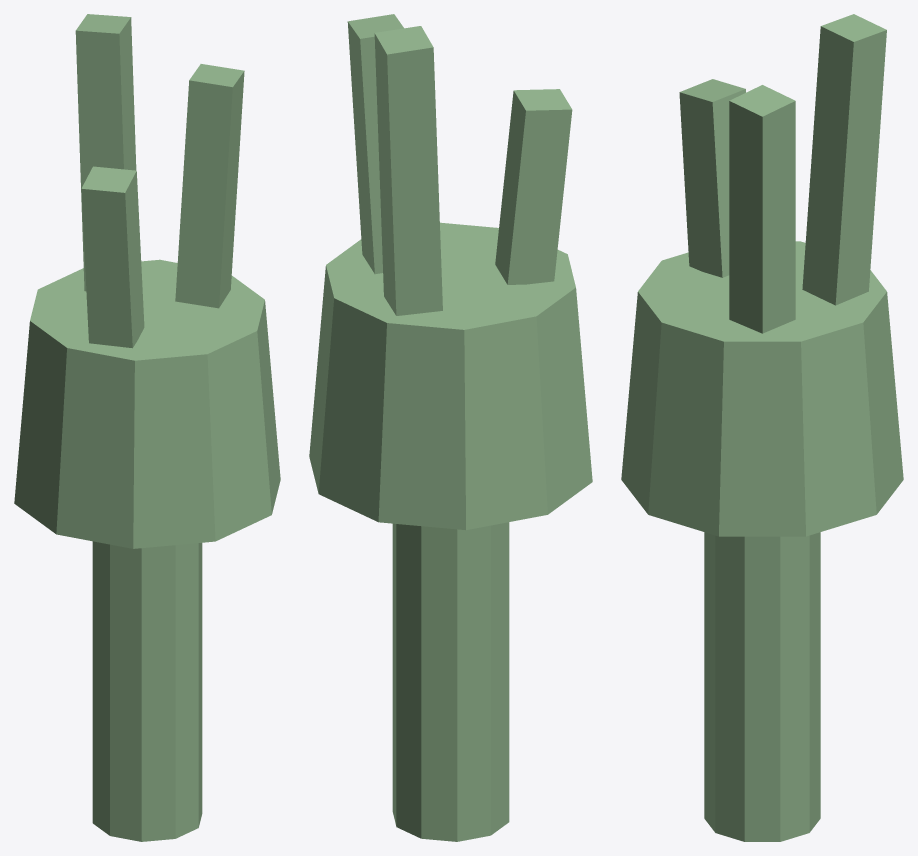
Rendered from broken_bottle.glb.
3 views of the same model, side by side, from view 1: azimuth 30°, elevation 25°; view 2: azimuth 150°, elevation 25°; view 3: azimuth 270°, elevation 25° (orthographic). The views are drawn at different scales.
Parts seen in each view (by area): view 1: broken_bottle; view 2: broken_bottle; view 3: broken_bottle.
Part boxes in pixels (x1,y1,x2,y2): broken_bottle: (14,14,280,841); broken_bottle: (309,14,592,841); broken_bottle: (621,14,903,841).
Bounding box in the file's own units: 0.0647 × 0.2105 × 0.068.
